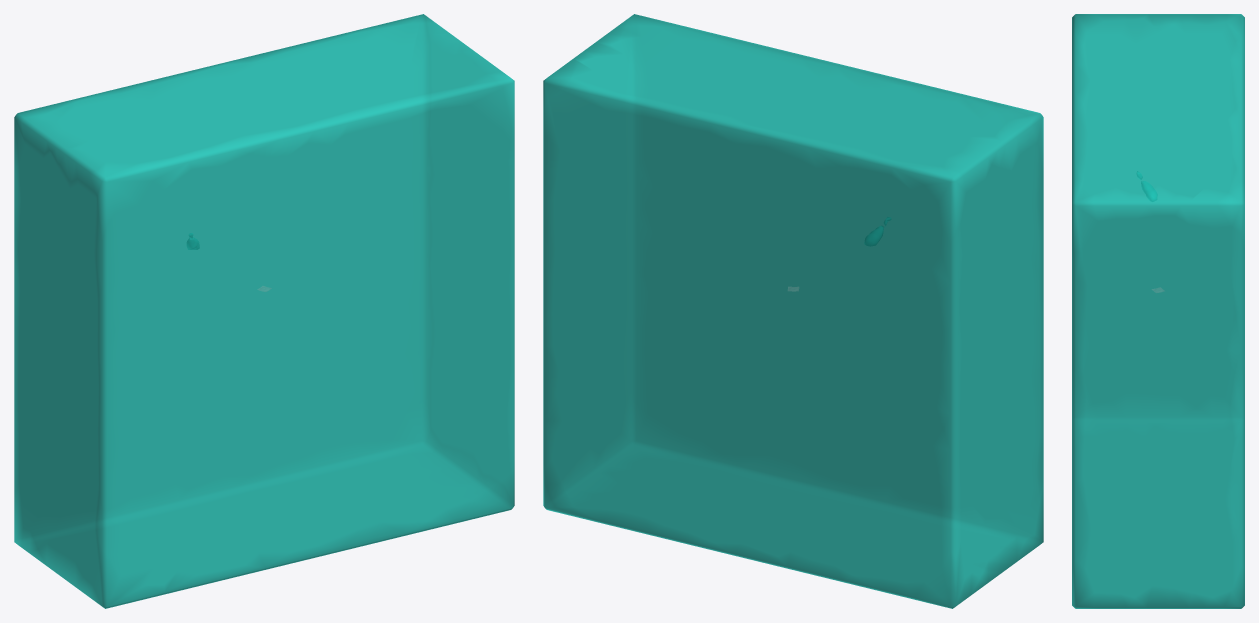
The picture shows the model from 3 angles, left to right: view 1: azimuth 30°, elevation 25°; view 2: azimuth 150°, elevation 25°; view 3: azimuth 270°, elevation 25°; orthographic projection. The views are drawn at different scales.
Parts seen in each view (by area): view 1: Liquid_Domain; view 2: Liquid_Domain; view 3: Liquid_Domain.
Boxes of the visible parts, x1,y1,x2,y2 form: Liquid_Domain: (14, 14, 514, 608); Liquid_Domain: (543, 14, 1043, 608); Liquid_Domain: (1072, 14, 1244, 608).
Size of the model in its own units: 1948 by 1948 by 748.
